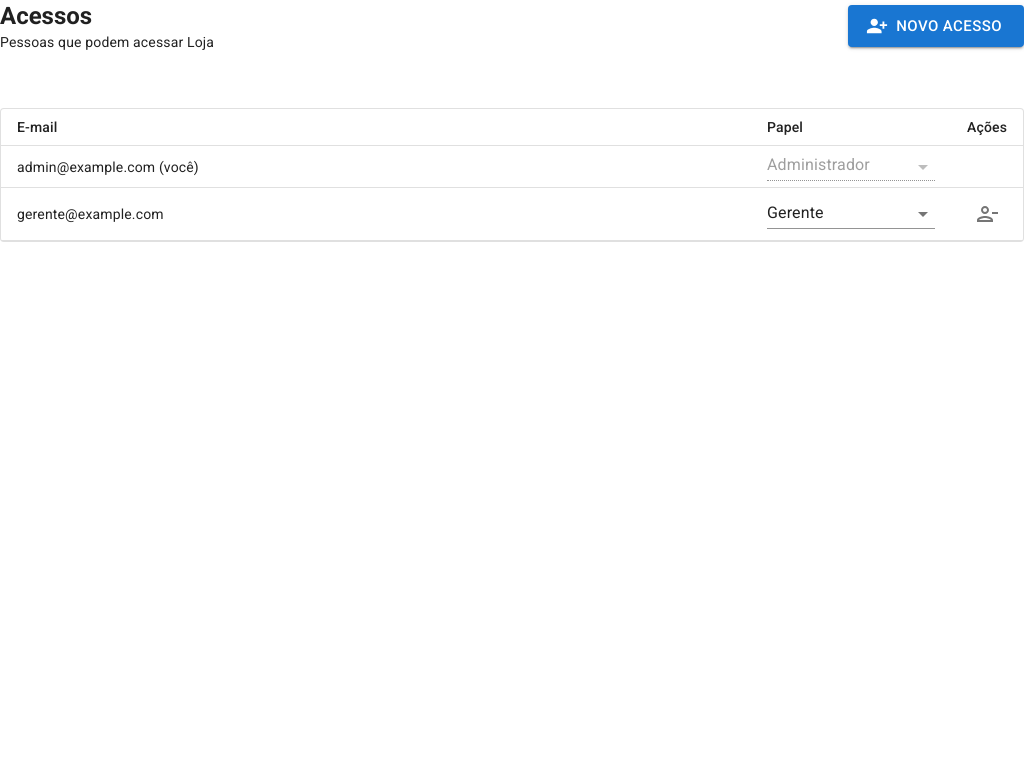
AccessPage › shows on the email field that it is not registered
Click the button "Novo acesso" at (936, 26), box [848, 5, 1023, 47]
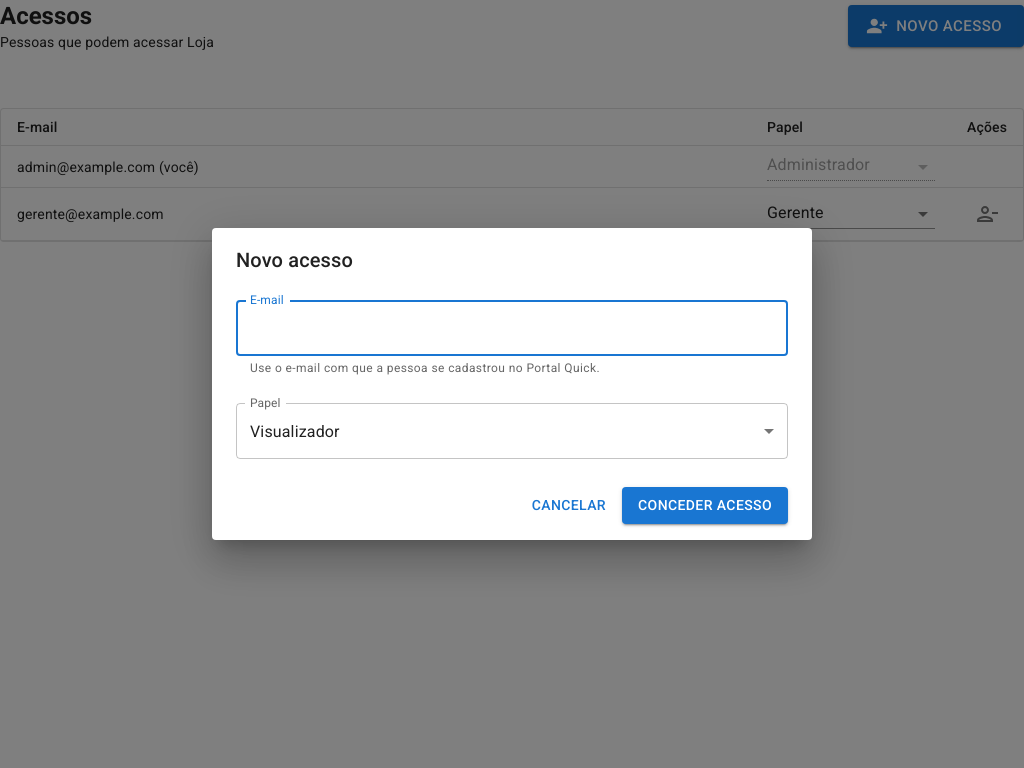
Type "ninguem@example.com" into the field labelled "E-mail" at (512, 328), box [236, 300, 788, 356]
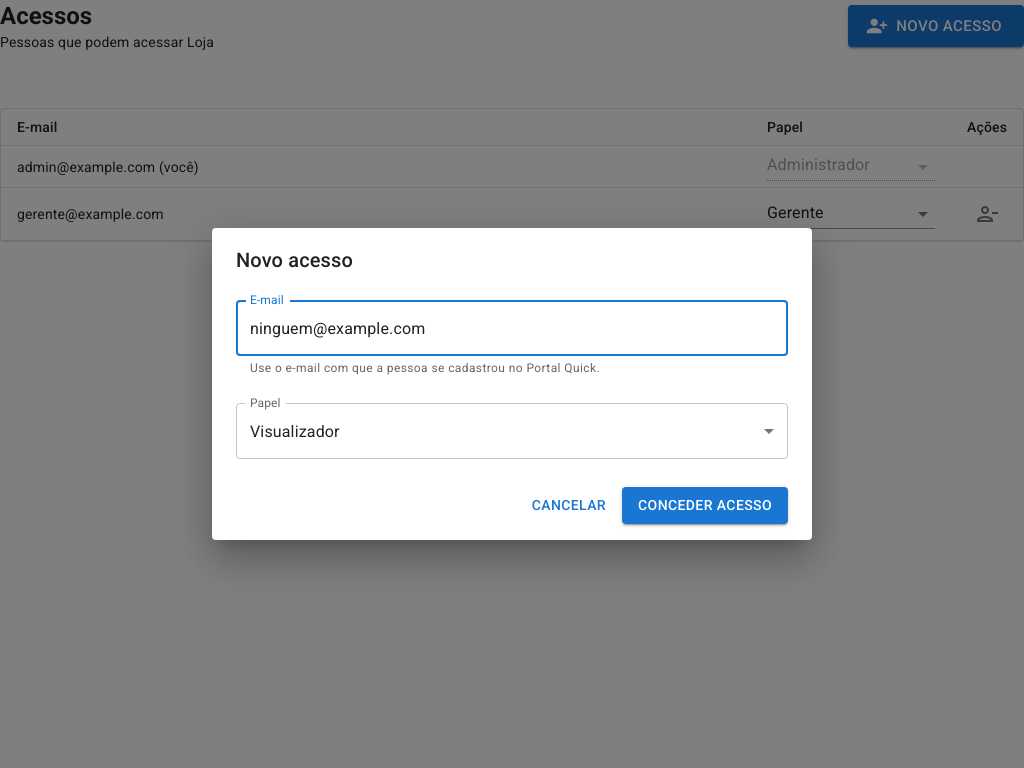
Click the button "Conceder acesso" at (705, 505), box [622, 487, 788, 524]
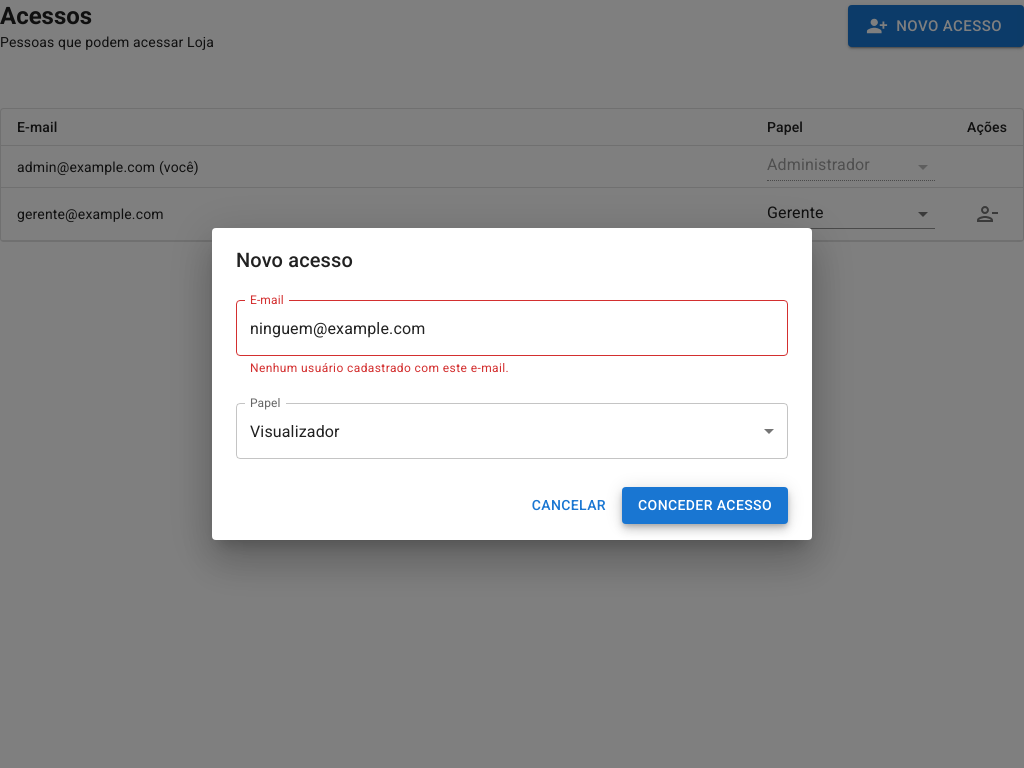
Now the text "Nenhum usuário cadastrado com este e-mail." is shown, box [250, 361, 509, 375]
